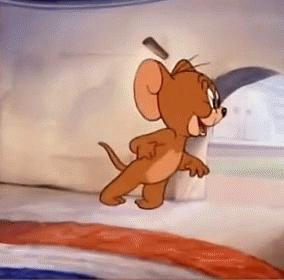jerry: (96, 58, 228, 210)
